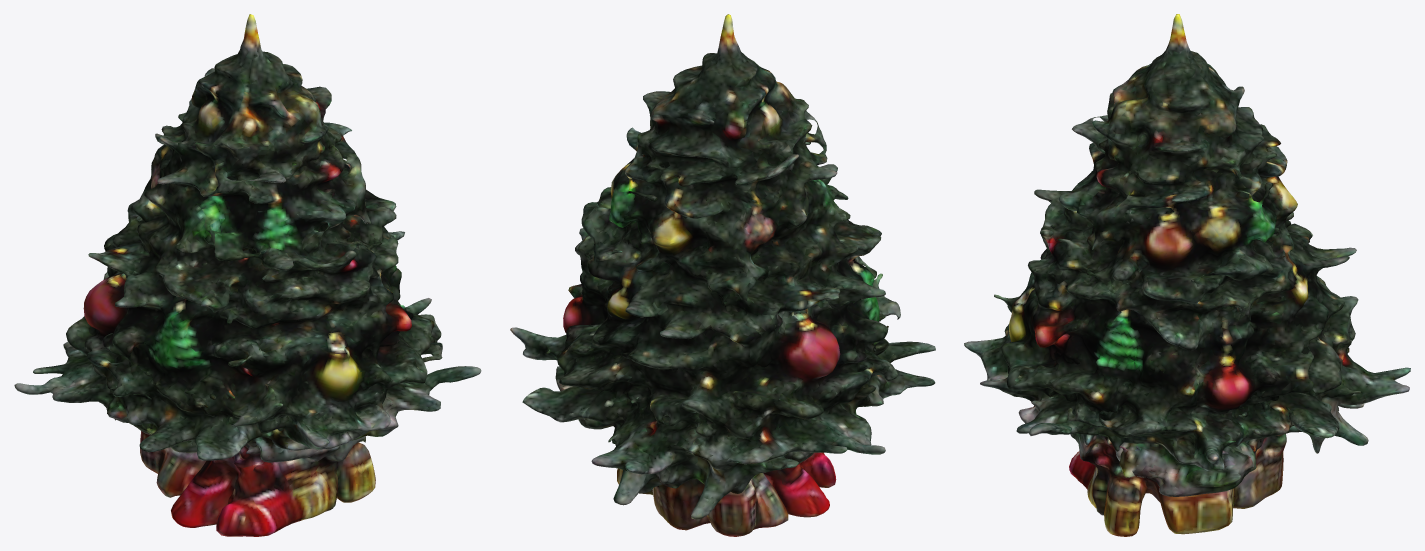
File: christmas_tree_1.glb
3 views of the same model, side by side, from view 1: azimuth 30°, elevation 25°; view 2: azimuth 150°, elevation 25°; view 3: azimuth 270°, elevation 25° (orthographic).
Parts seen in each view (by area): view 1: model_0; view 2: model_0; view 3: model_0.
Boxes of the visible parts, x1,y1,x2,y2 form: model_0: (14,14,481,536); model_0: (510,14,935,536); model_0: (964,14,1410,536).
Size of the model in its own units: 1.51 by 1.77 by 1.48.
Materials: 1 (1 with a texture image).
